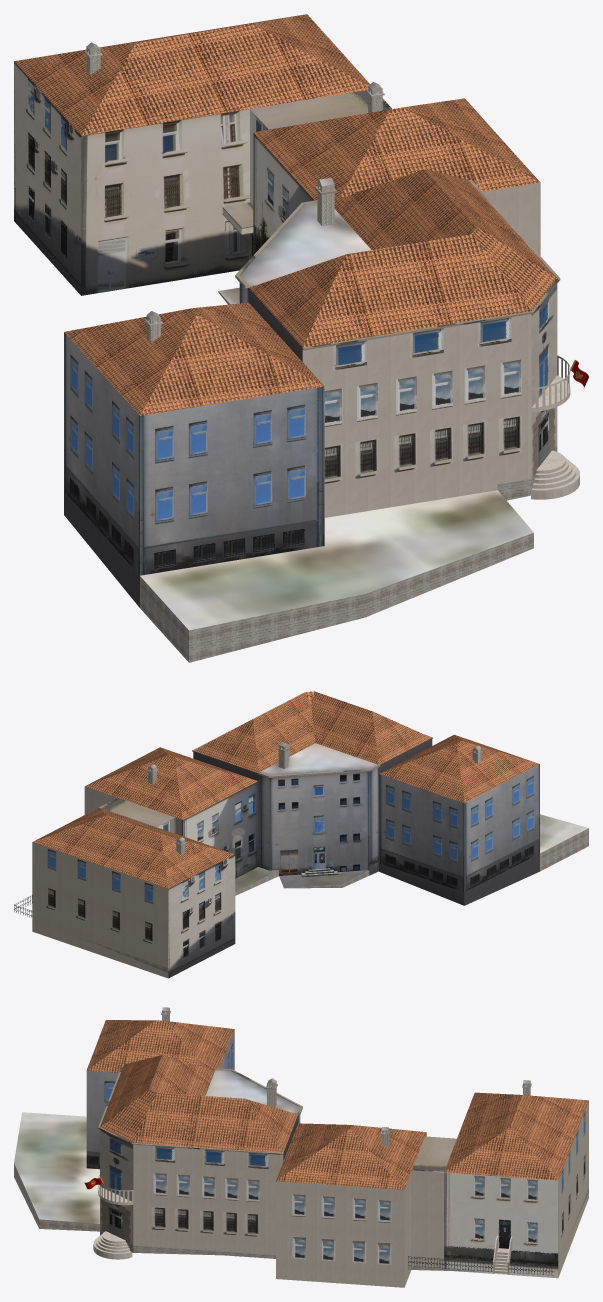
3 views of the same model, one above another, from view 1: azimuth 30°, elevation 25°; view 2: azimuth 150°, elevation 25°; view 3: azimuth 270°, elevation 25° (orthographic). The views are drawn at different scales.
Visible parts, largest first — view 1: skpF49E (×30); view 2: skpF49E (×26); view 3: skpF49E (×23).
Boxes of the visible parts, left/top/right/bottom form: skpF49E (×30): left=14, top=14, right=579, bottom=662; skpF49E (×26): left=32, top=691, right=588, bottom=978; skpF49E (×23): left=14, top=1020, right=588, bottom=1287.
Size of the model in its own units: 1404 by 1929 by 585.
38 materials, 37 textured.
